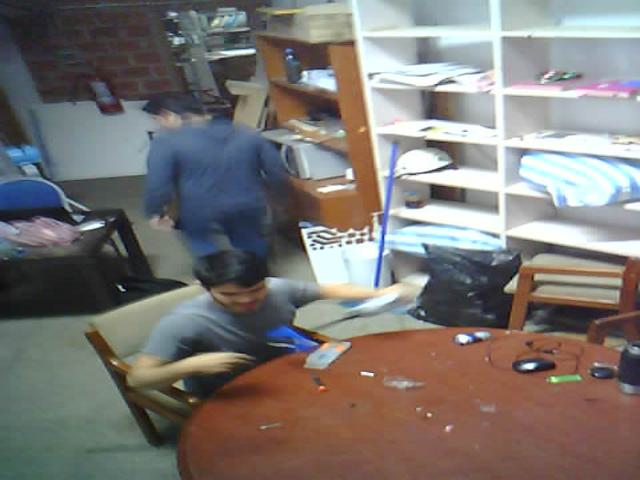person: (120, 247, 460, 433), (96, 71, 297, 272)
